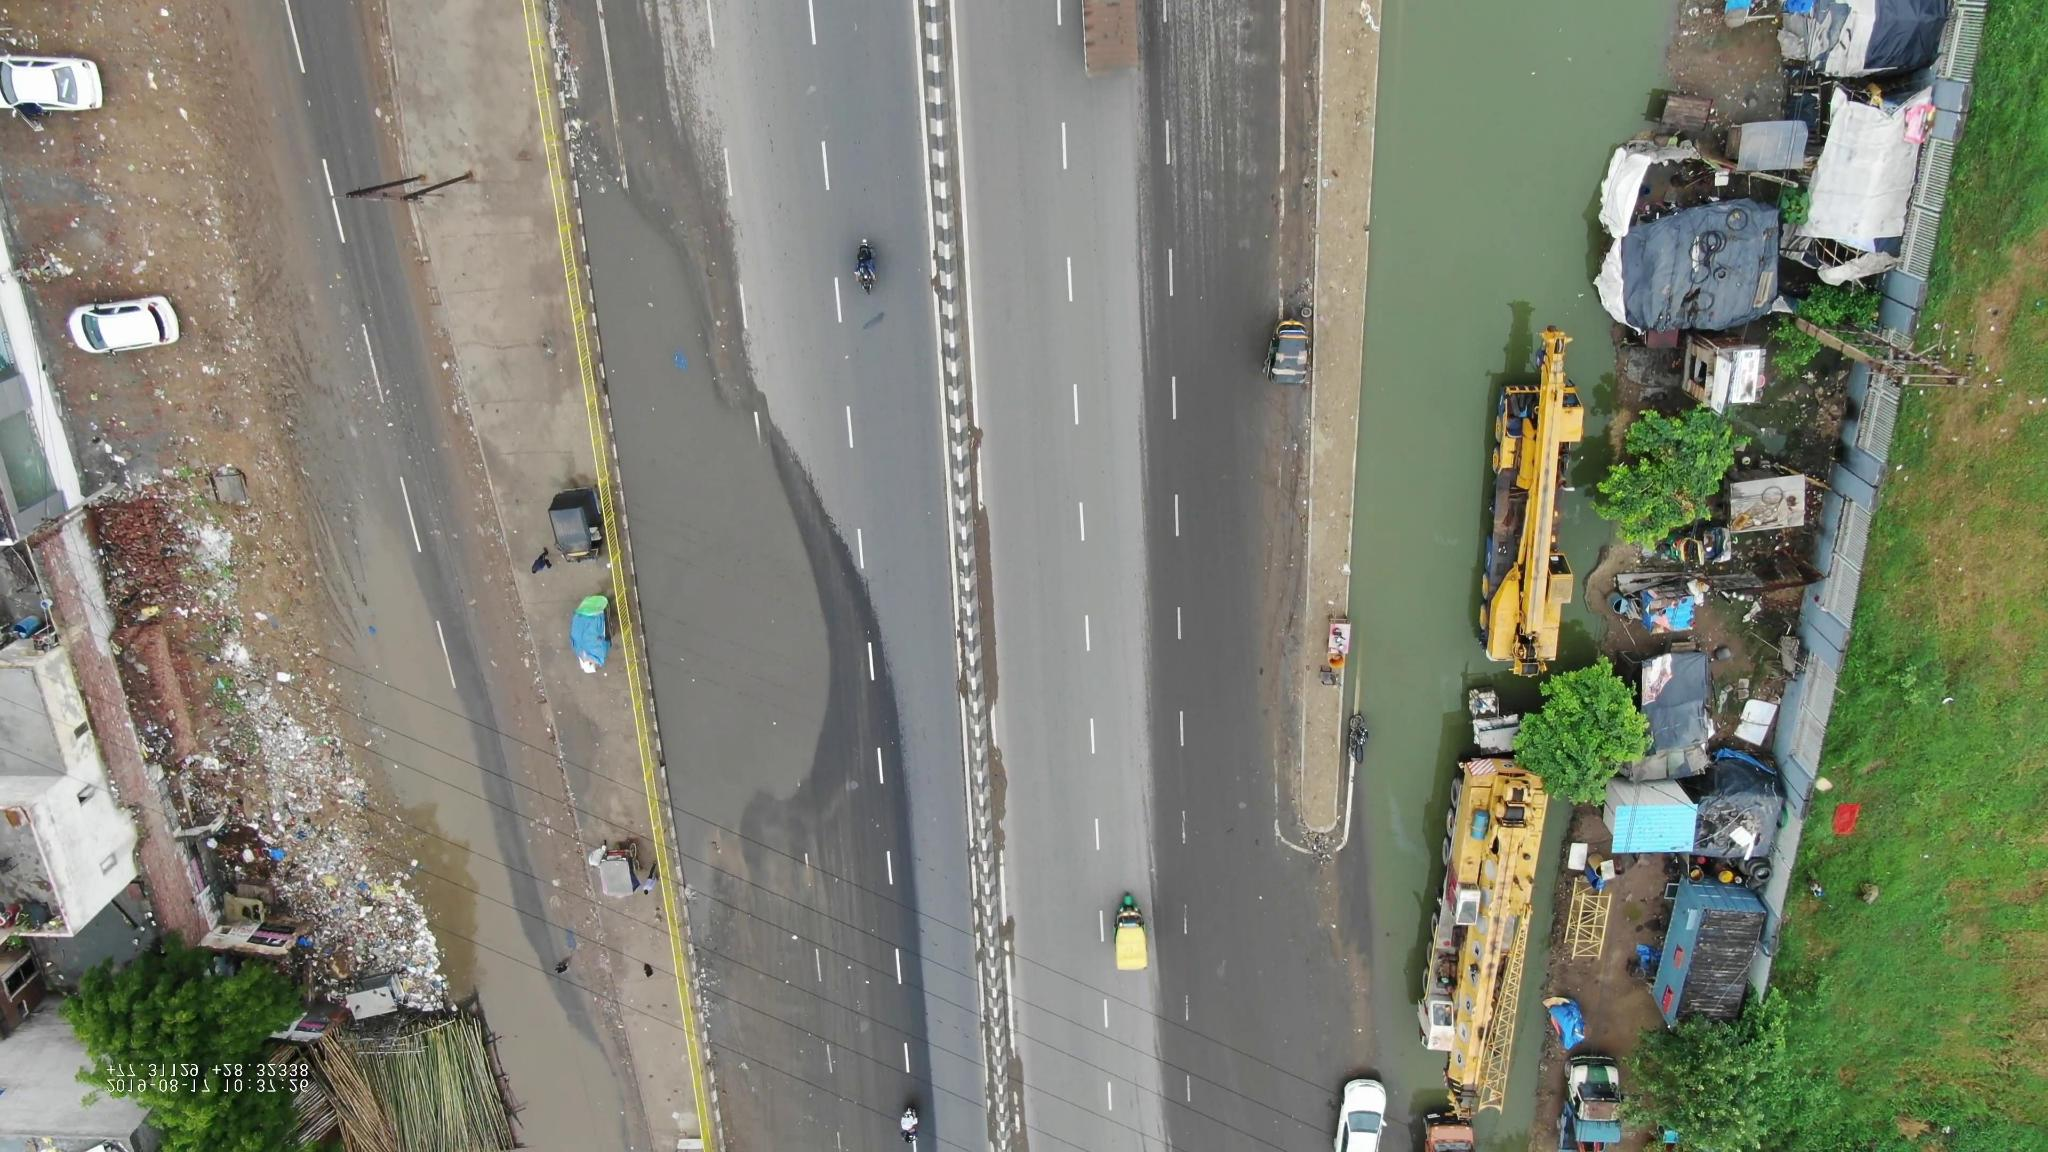Muddy_road: (212, 120, 302, 325), (266, 363, 354, 530)
Road_side_garbage: (236, 823, 430, 990), (188, 664, 359, 798)
Waterlogging: (1357, 21, 1698, 454), (1362, 480, 1634, 966), (670, 489, 848, 862), (563, 159, 730, 435), (326, 554, 463, 788), (402, 803, 525, 959)
